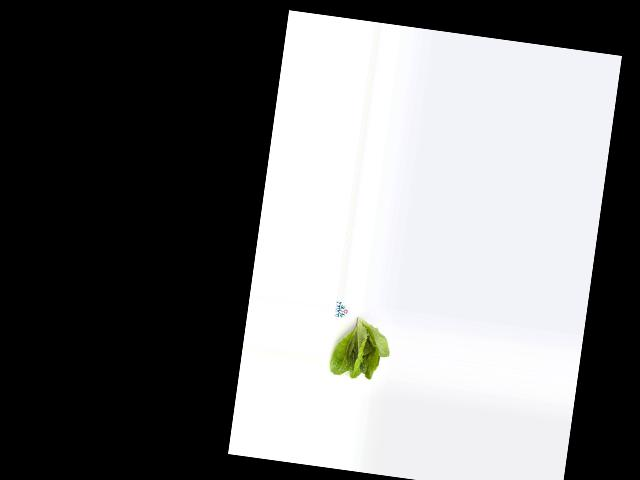lettuce: (329, 314, 394, 385)
